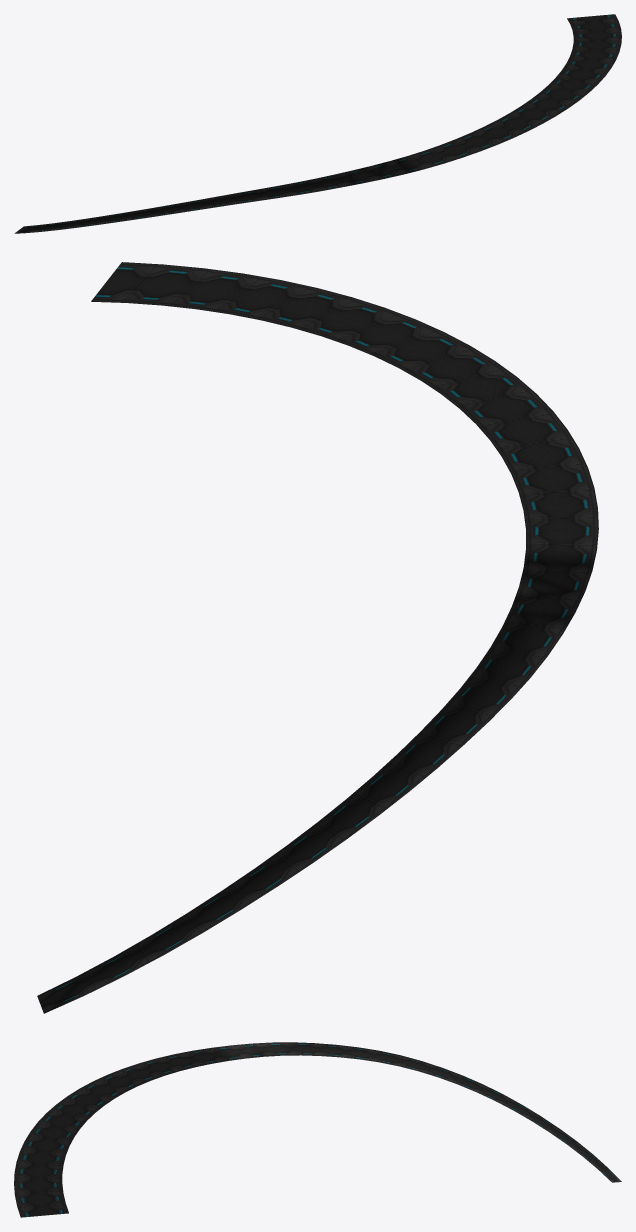
File: MotBelt.obj
The picture shows the model from 3 angles, top to bottom: view 1: azimuth 90°, elevation 25°; view 2: azimuth 150°, elevation 25°; view 3: azimuth 270°, elevation 25°; orthographic projection. The views are drawn at different scales.
Visible parts, largest first — view 1: polygon0; view 2: polygon0; view 3: polygon0.
Part boxes in pixels (x1,y1,x2,y2): polygon0: [14, 14, 621, 233]; polygon0: [37, 262, 598, 1013]; polygon0: [14, 1042, 621, 1217].
Size of the model in its own units: 164 by 45.52 by 237.
1 material, 1 textured.
